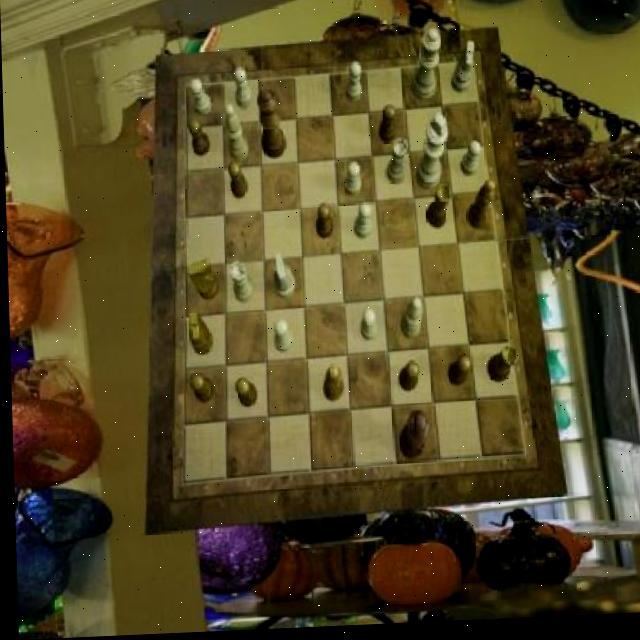bishop: (465, 184, 495, 234), (320, 367, 342, 405)
black-bishop: (395, 415, 427, 463)
black-king: (185, 260, 217, 304), (187, 311, 211, 357)
black-knight: (186, 119, 208, 158), (226, 162, 246, 201), (445, 359, 469, 391), (187, 374, 211, 406), (394, 366, 417, 398), (378, 108, 396, 147), (231, 381, 254, 411), (314, 205, 332, 240)
black-pawn: (255, 92, 284, 162)
black-queen: (482, 349, 516, 387), (424, 189, 449, 234)
black-rook: (223, 105, 247, 164), (397, 299, 421, 343)
white-bishop: (412, 115, 448, 194)
white-king: (450, 45, 475, 97), (272, 254, 294, 301)
white-knight: (457, 145, 480, 180), (190, 79, 210, 117), (343, 66, 361, 107), (234, 70, 252, 110), (352, 206, 371, 242), (271, 321, 290, 355), (358, 310, 376, 345), (342, 166, 360, 201)
white-pawn: (409, 32, 443, 104)
white-queen: (383, 141, 406, 188), (228, 262, 252, 306)
